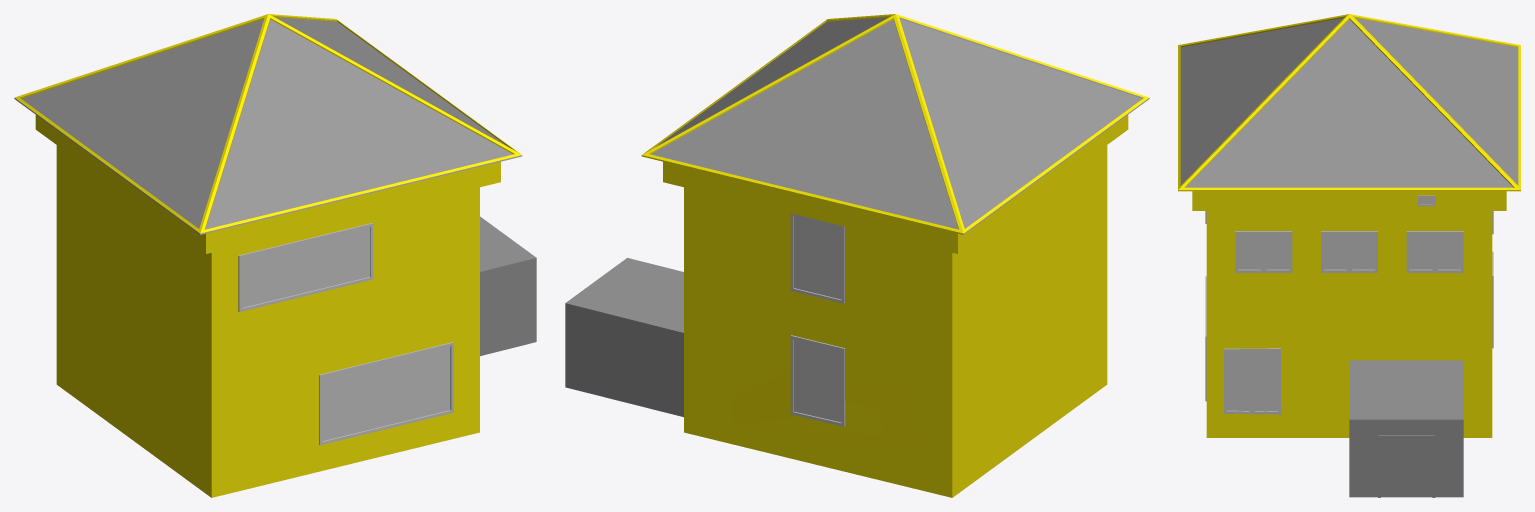
File: casa2PruebaNueva.FBX
3 renders of one model, left to right at view 1: azimuth 30°, elevation 25°; view 2: azimuth 150°, elevation 25°; view 3: azimuth 270°, elevation 25°, orthographic. The views are drawn at different scales.
Parts seen in each view (by area): view 1: Box001; view 2: Box001; view 3: Box001.
Boxes of the visible parts, x1,y1,x2,y2 form: Box001: (14,14,536,497); Box001: (565,14,1149,497); Box001: (1178,14,1520,497).
Size of the model in its own units: 80.25 by 70.25 by 60.
